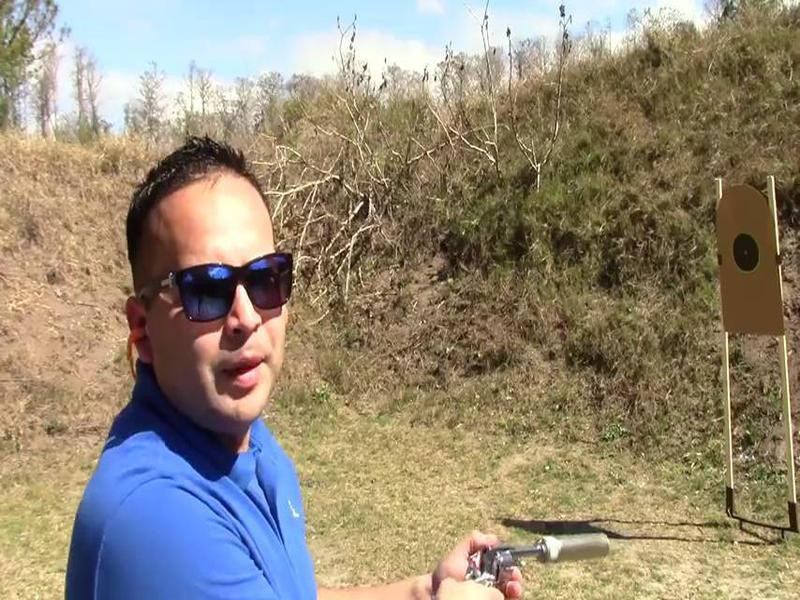Revolver: (417, 484, 547, 600)
